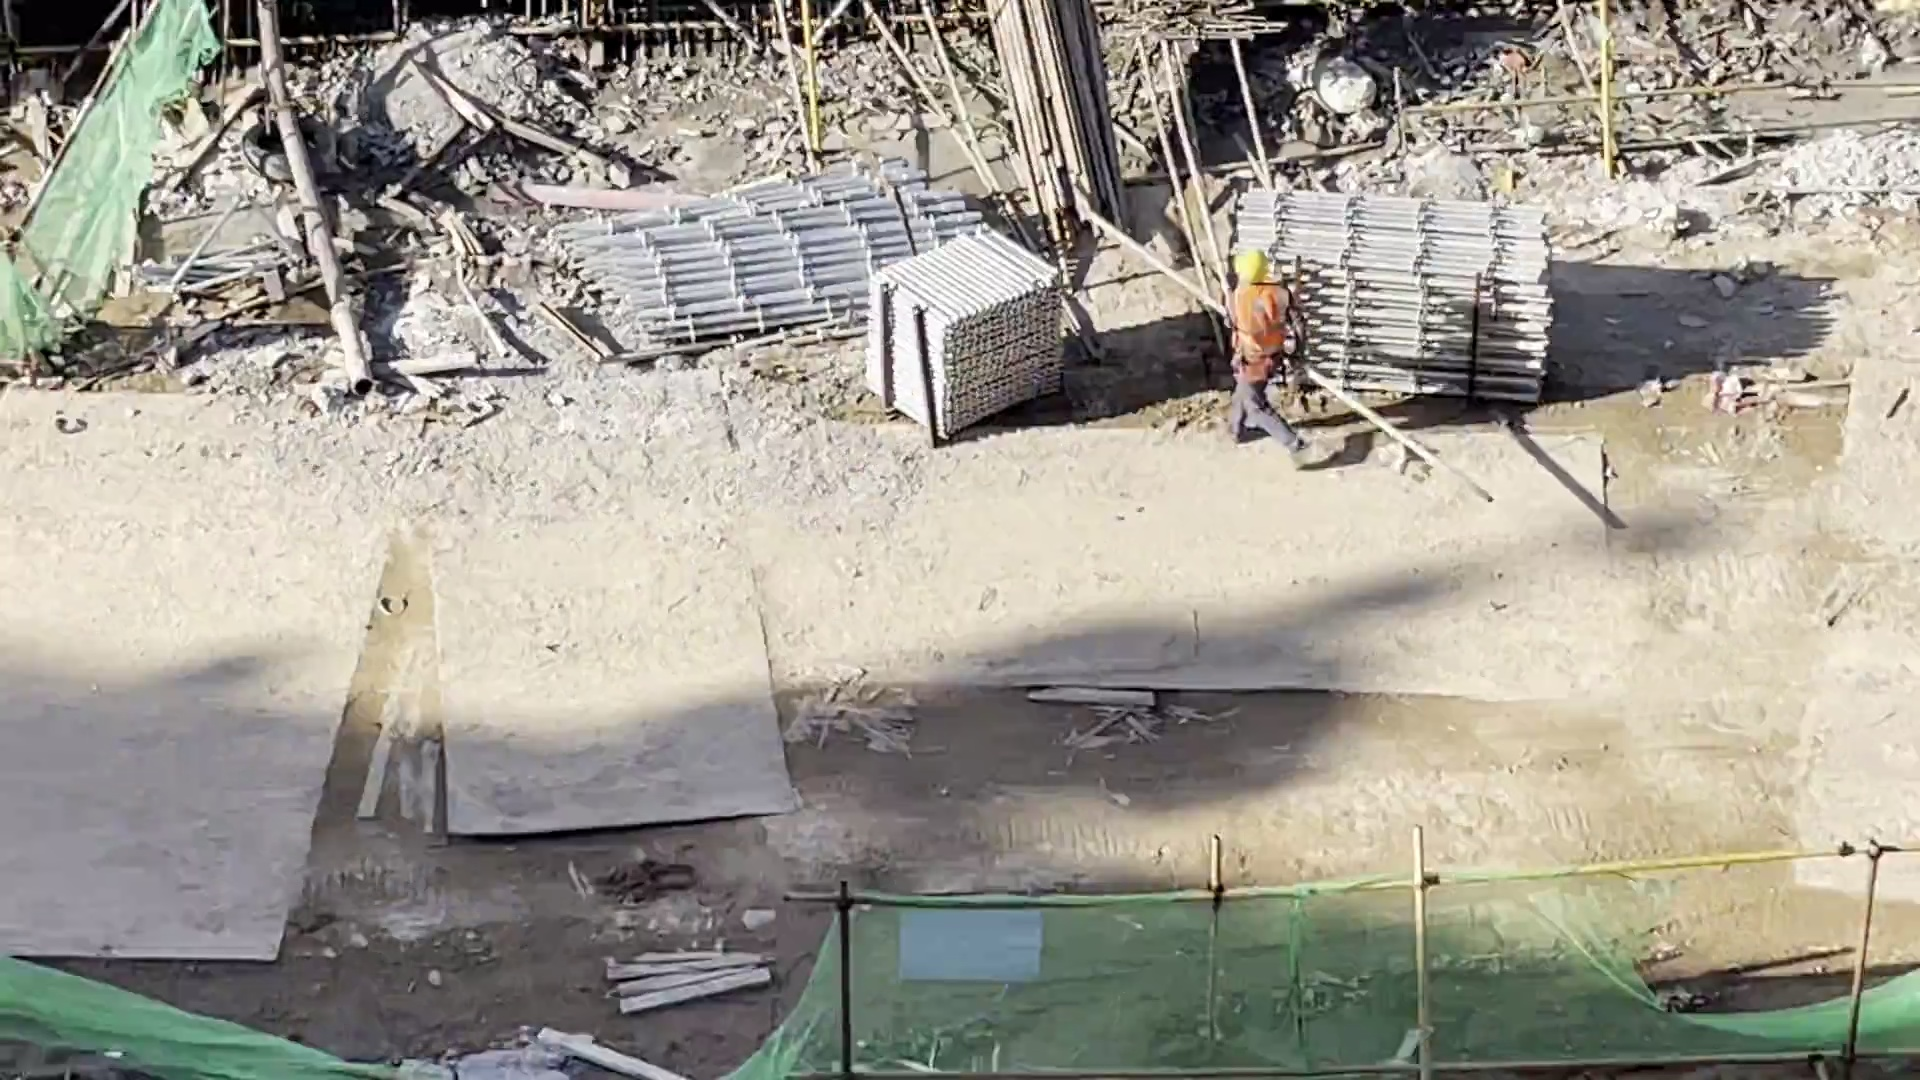helmet: (1229, 239, 1267, 279)
person: (1203, 241, 1328, 471)
scaffold: (1224, 168, 1569, 423), (543, 165, 985, 353), (855, 221, 1073, 453)
vest: (1229, 280, 1301, 378)
